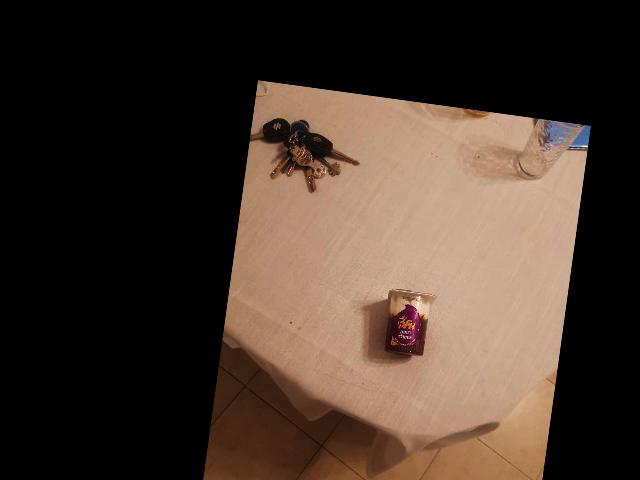milky: (410, 233, 496, 296)
